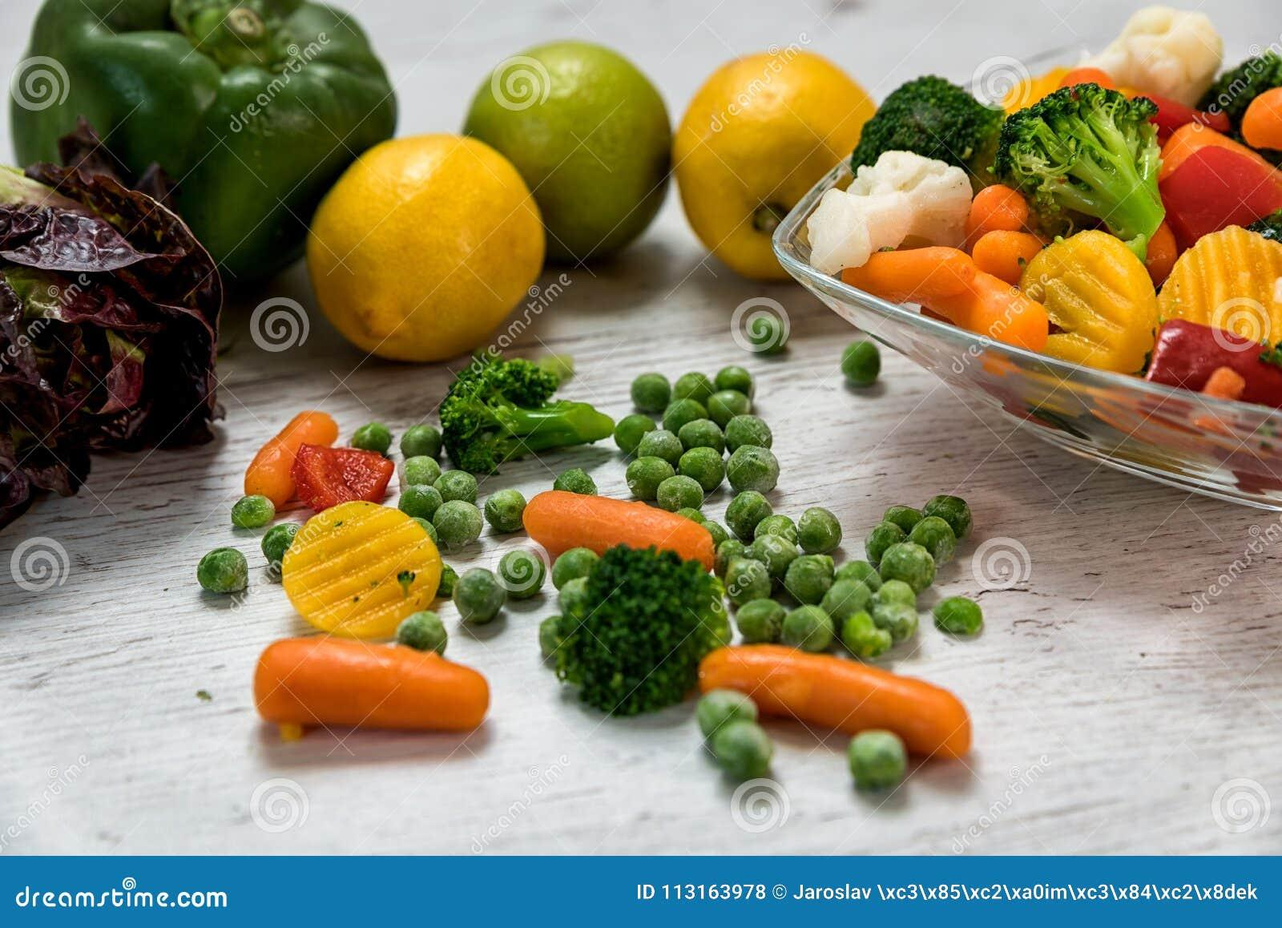bell pepper: (27, 0, 370, 286)
broccoli: (860, 78, 1172, 248), (537, 544, 733, 719)
carrot: (699, 643, 972, 762), (255, 637, 494, 739), (524, 491, 718, 568), (859, 239, 1011, 321), (244, 409, 341, 510), (967, 186, 1031, 237)
peas: (635, 355, 859, 519)
